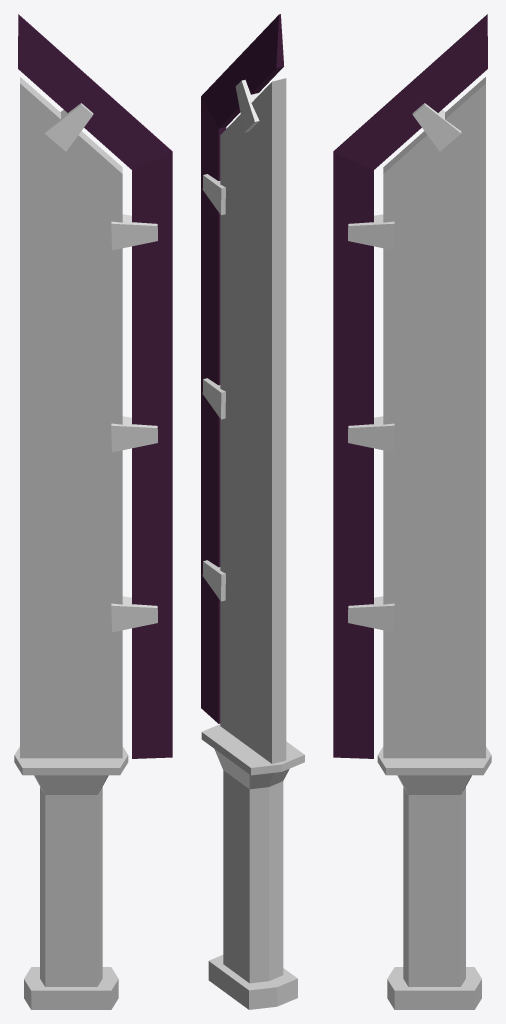
Rendered from CyberSword.fbx.
3 renders of one model, left to right at view 1: azimuth 90°, elevation 25°; view 2: azimuth 210°, elevation 25°; view 3: azimuth 270°, elevation 25°, orthographic.
Parts seen in each view (by area): view 1: Blade, ForeBlade, Hold, Link.001, Link.003, Link.002, Link; view 2: Blade, Hold, ForeBlade, Link, Link.002, Link.003, Link.001; view 3: Blade, ForeBlade, Hold, Link.001, Link.003, Link.002, Link.
Boxes of the visible parts, bbox=[...] form: Blade: bbox=[20, 77, 122, 758]; ForeBlade: bbox=[18, 14, 172, 758]; Hold: bbox=[14, 746, 128, 1009]; Link.001: bbox=[111, 214, 157, 250]; Link.003: bbox=[111, 416, 157, 452]; Link.002: bbox=[111, 596, 157, 632]; Link: bbox=[44, 103, 93, 151]; Blade: bbox=[220, 78, 286, 763]; Hold: bbox=[201, 724, 304, 1009]; ForeBlade: bbox=[201, 14, 283, 723]; Link: bbox=[235, 79, 262, 132]; Link.002: bbox=[202, 560, 225, 601]; Link.003: bbox=[202, 378, 225, 419]; Link.001: bbox=[202, 174, 225, 215]; Blade: bbox=[383, 77, 485, 758]; ForeBlade: bbox=[333, 14, 487, 758]; Hold: bbox=[377, 746, 491, 1009]; Link.001: bbox=[348, 214, 394, 250]; Link.003: bbox=[348, 416, 394, 452]; Link.002: bbox=[348, 596, 394, 632]; Link: bbox=[412, 103, 461, 151].
Size of the model in its own units: 31.02 by 547 by 79.63.
